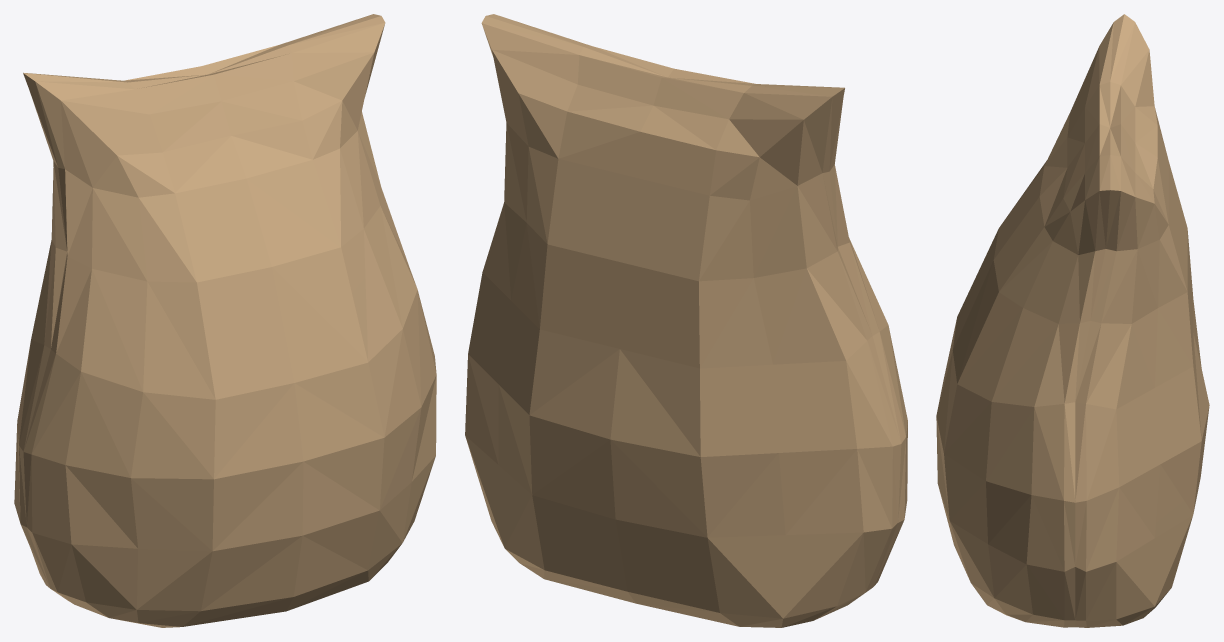
Rendered from Prop_Bag_Grain_02.fbx.
The picture shows the model from 3 angles, left to right: view 1: azimuth 30°, elevation 25°; view 2: azimuth 150°, elevation 25°; view 3: azimuth 270°, elevation 25°; orthographic projection. The views are drawn at different scales.
Parts seen in each view (by area): view 1: Prop_Bag_Grain_02; view 2: Prop_Bag_Grain_02; view 3: Prop_Bag_Grain_02.
Boxes of the visible parts, bbox=[...] form: Prop_Bag_Grain_02: bbox=[14, 14, 436, 627]; Prop_Bag_Grain_02: bbox=[465, 14, 907, 627]; Prop_Bag_Grain_02: bbox=[936, 14, 1209, 627].
Bounding box in the file's own units: 707 × 875 × 454.
